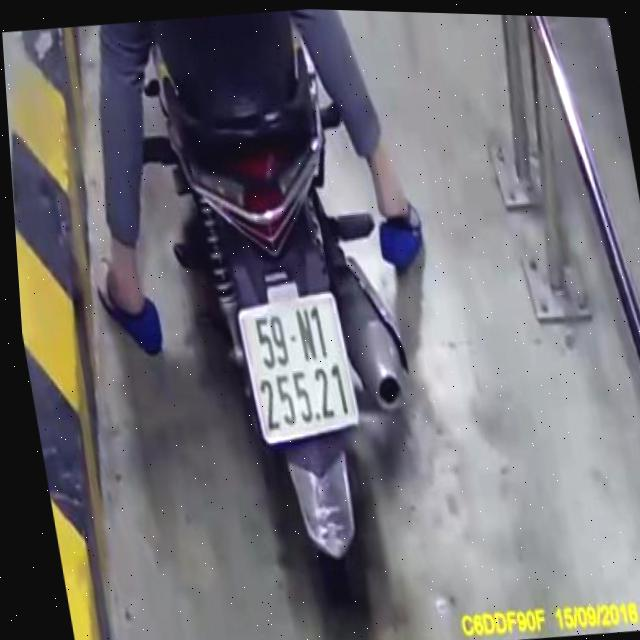motorcycle: (123, 4, 464, 639)
plate: (227, 286, 370, 450)
